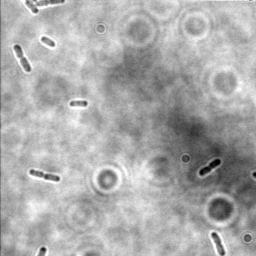Dividing: (12, 44, 32, 73), (198, 157, 222, 178), (28, 168, 61, 183), (210, 230, 226, 256)
Rod: (68, 99, 89, 109), (40, 36, 56, 48)
